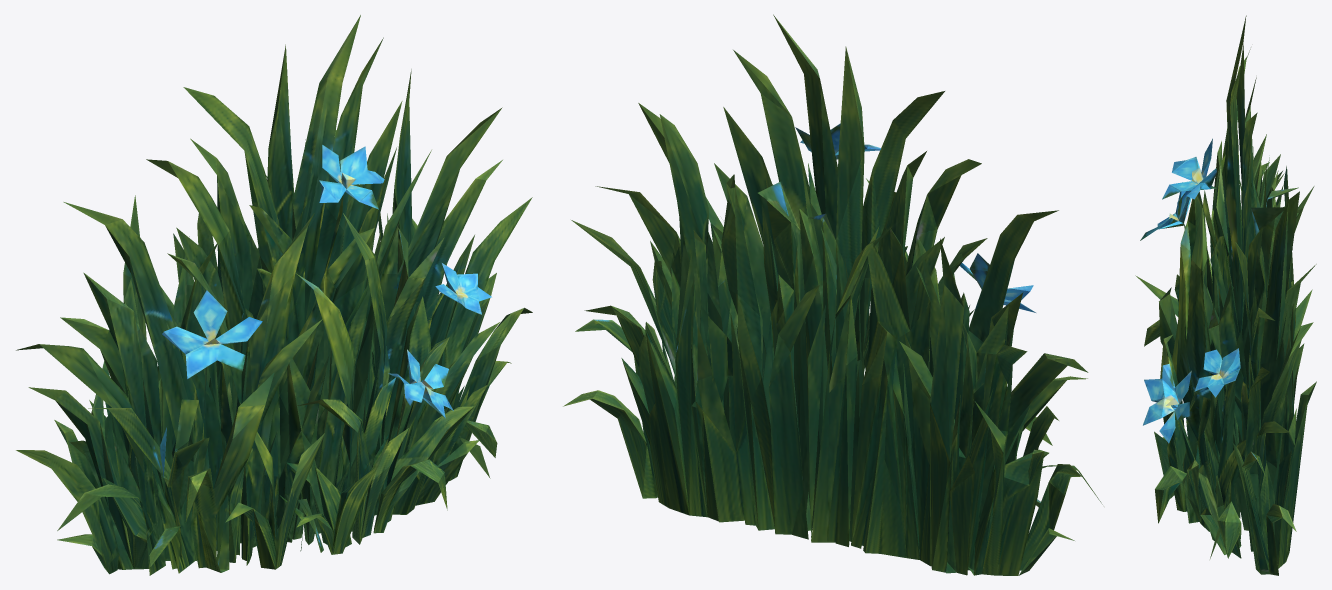
The model's file is grass_glow.glb.
The picture shows the model from 3 angles, left to right: view 1: azimuth 30°, elevation 25°; view 2: azimuth 150°, elevation 25°; view 3: azimuth 270°, elevation 25°; orthographic projection. The views are drawn at different scales.
Size of the model in its own units: 1.89 by 1.74 by 0.6203.
Materials: 1 (1 with a texture image).
